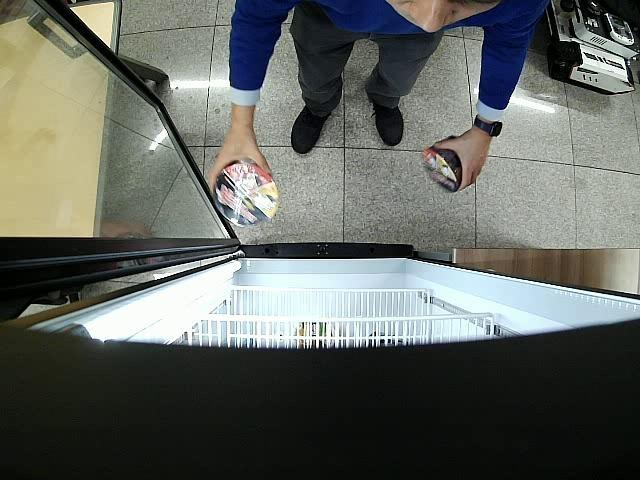07_buldak_L: (213, 160, 280, 228), (422, 136, 462, 192)
